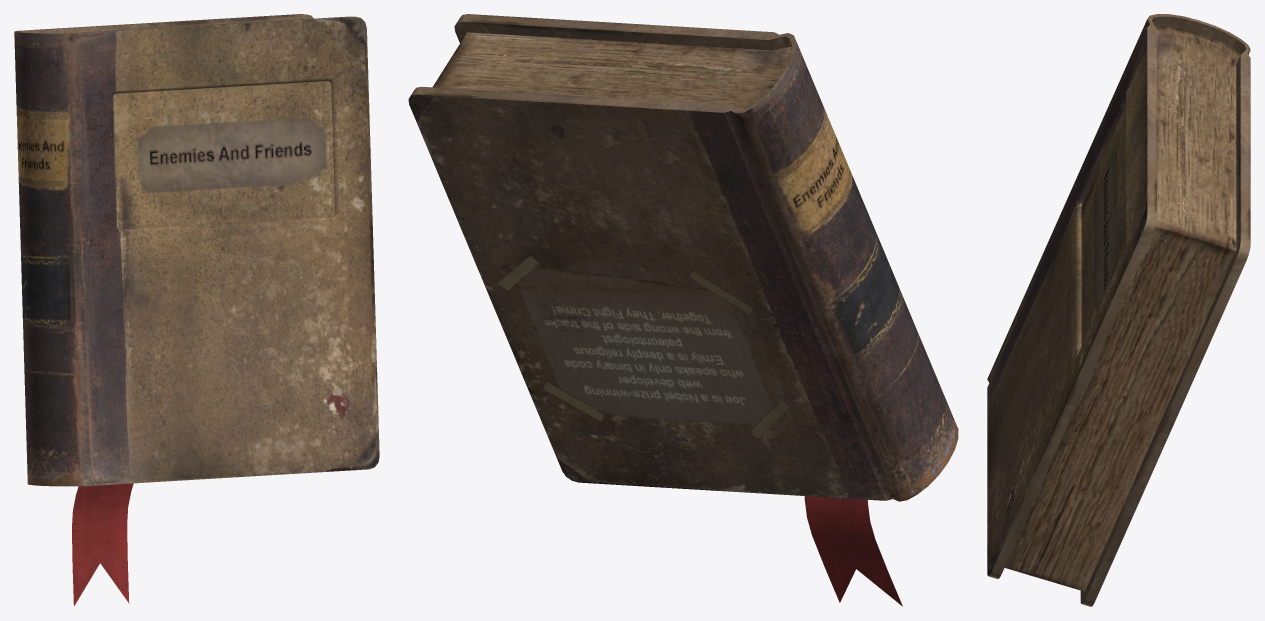
File: booook.dae
The picture shows the model from 3 angles, left to right: view 1: azimuth 30°, elevation 25°; view 2: azimuth 150°, elevation 25°; view 3: azimuth 270°, elevation 25°; orthographic projection. The views are drawn at different scales.
Visible parts, largest first — view 1: booook; view 2: booook; view 3: booook.
Part boxes in pixels (x1,y1,x2,y2): booook: [14, 14, 379, 606]; booook: [408, 14, 958, 606]; booook: [987, 14, 1250, 606].
Bounding box in the file's own units: 3.04 × 1.79 × 4.14.
Materials: 1 (1 with a texture image).
